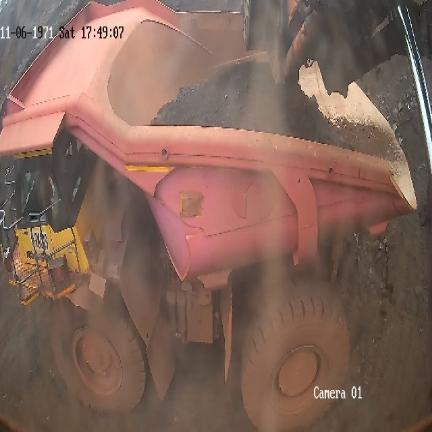pile: (149, 55, 328, 145)
